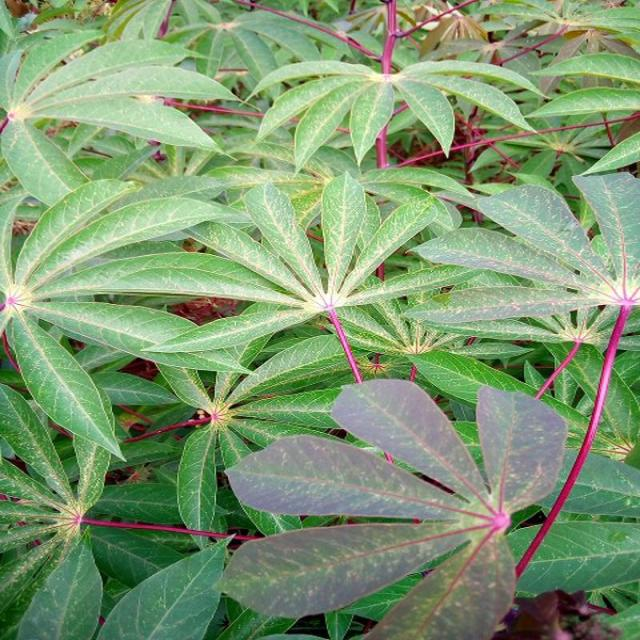cassava leaf: (0, 1, 638, 638), (217, 375, 568, 638)
